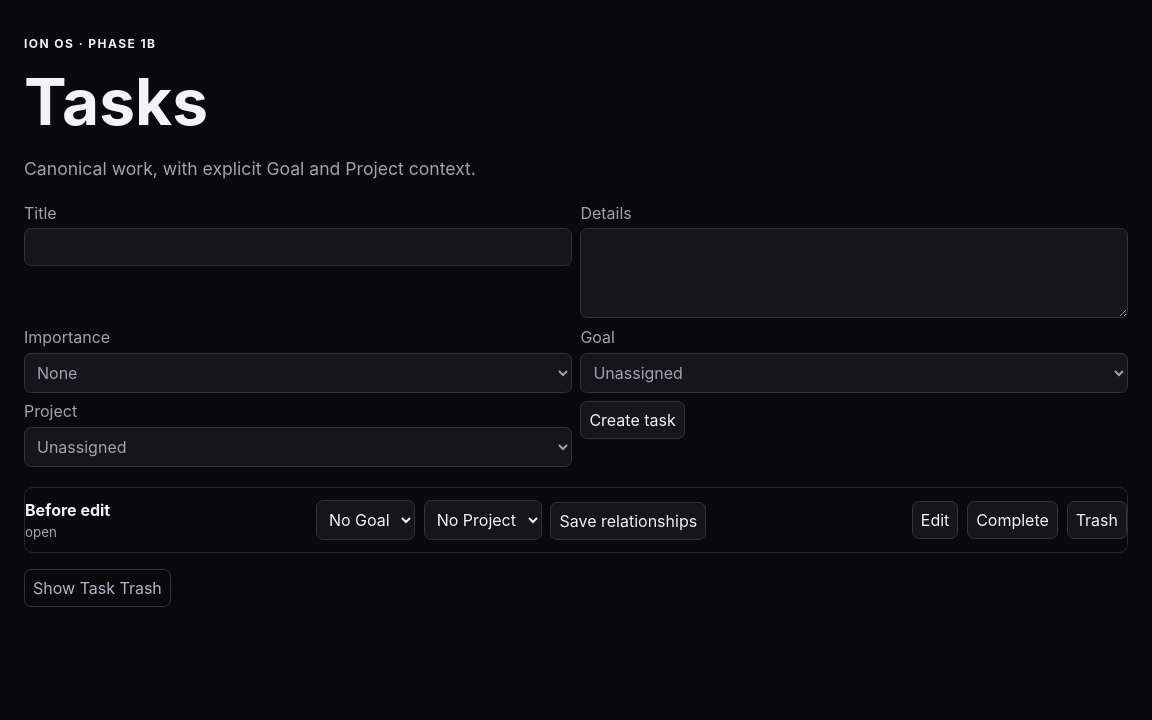
Test: saves an existing Task through update_task before rendering the edit
The image size is (1152, 720).
Click the button "Edit".
click(935, 520)  # box [912,501,958,539]
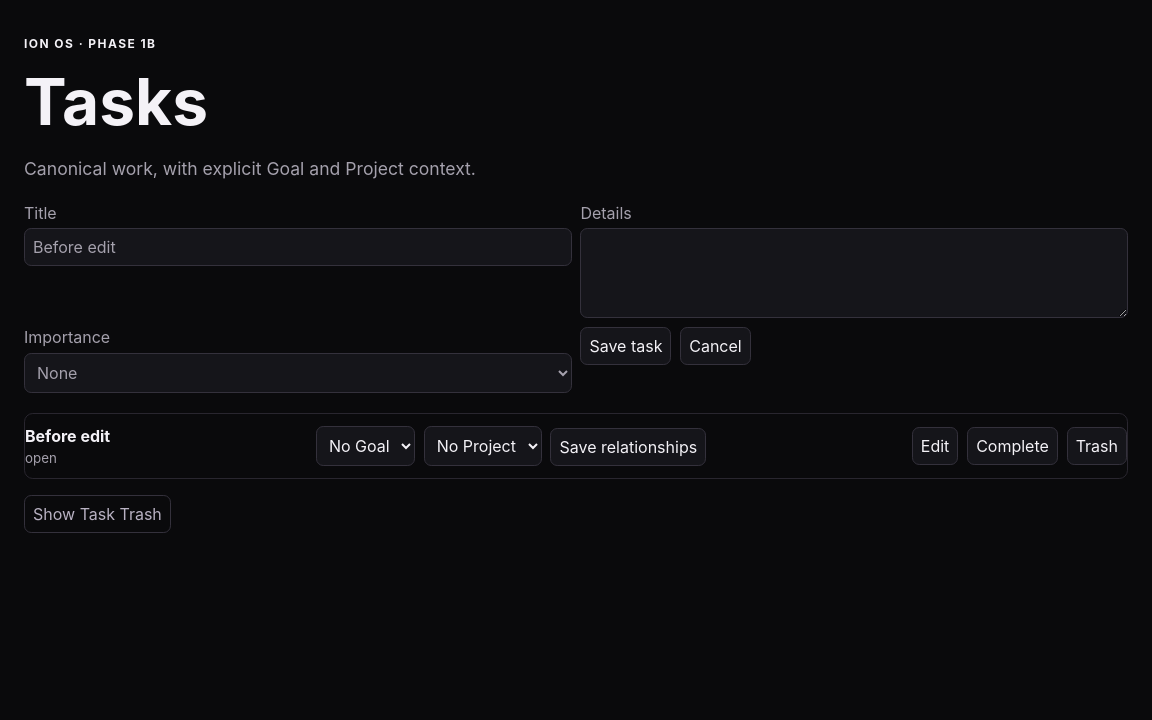
Replace the text in the field labelled "Title" with "After edit" at (298, 247), box [24,228,572,266]
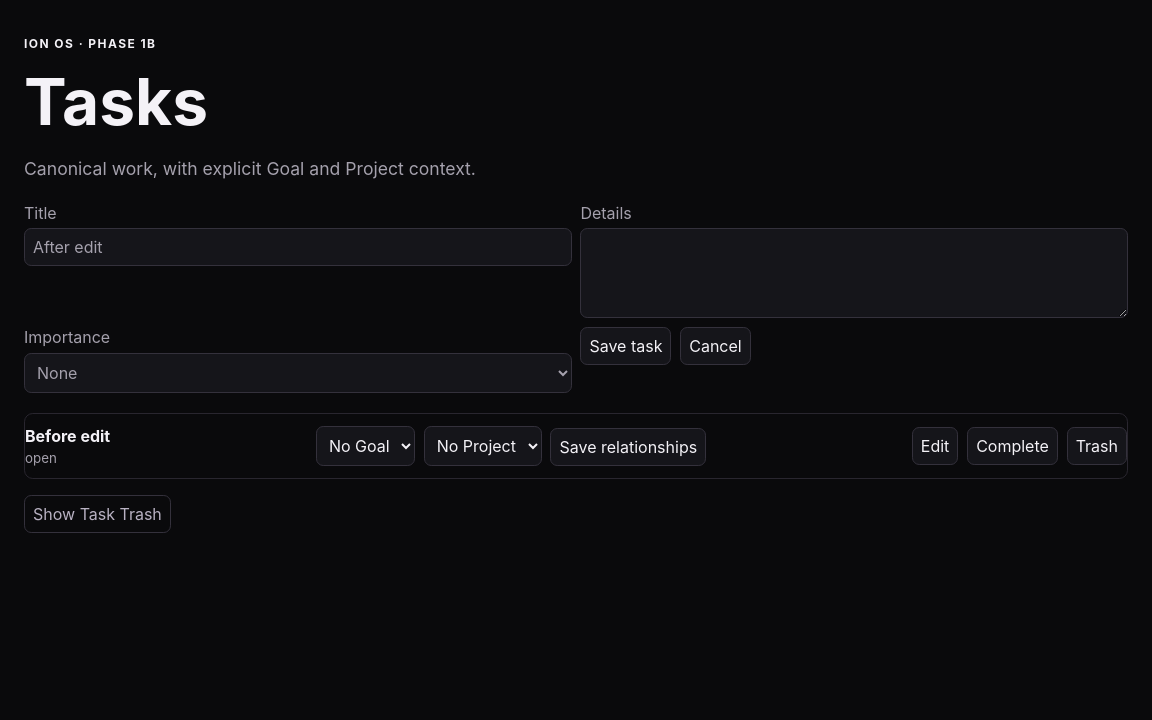
Click the button "Save task".
click(626, 346)  # box [580,327,671,365]
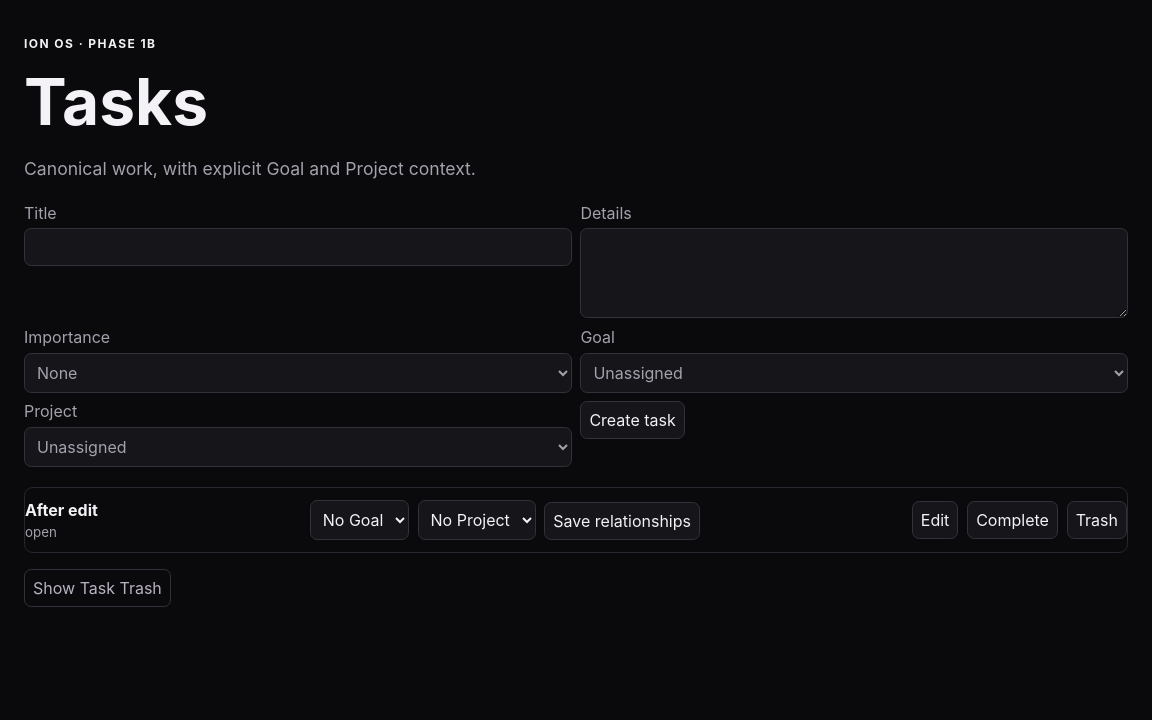
Expected: the text "After edit" is shown, [25,500,98,520]
Expected: the text "Before edit" is gone
Expected: the button "Create task" is shown, [580,401,685,439]
